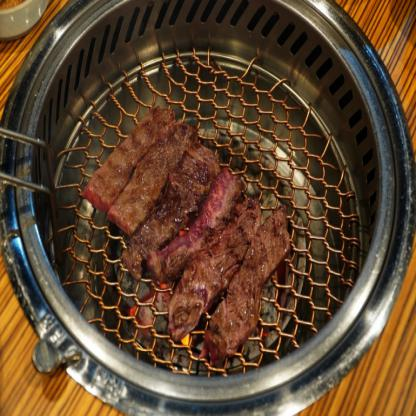Carne: (168, 195, 265, 335), (206, 202, 291, 358), (125, 140, 218, 270), (86, 98, 173, 211)
